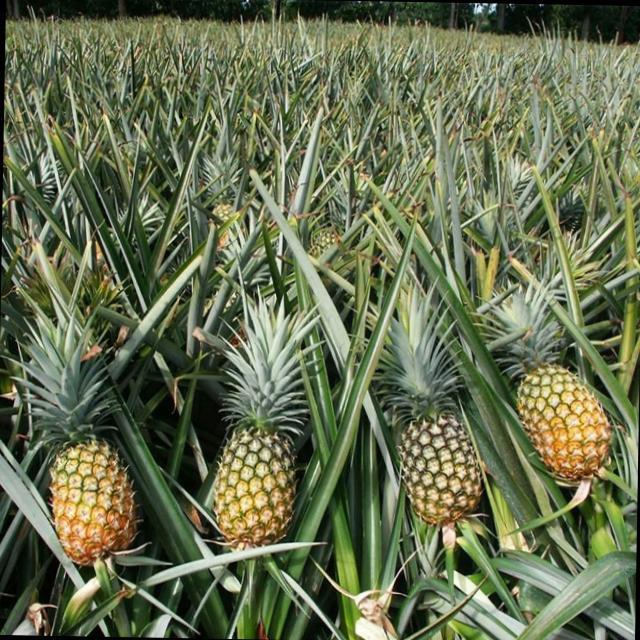PINEAPLE: (25, 332, 150, 565), (388, 300, 486, 547), (504, 286, 620, 470), (210, 339, 288, 547), (195, 151, 251, 233), (298, 198, 352, 272)
